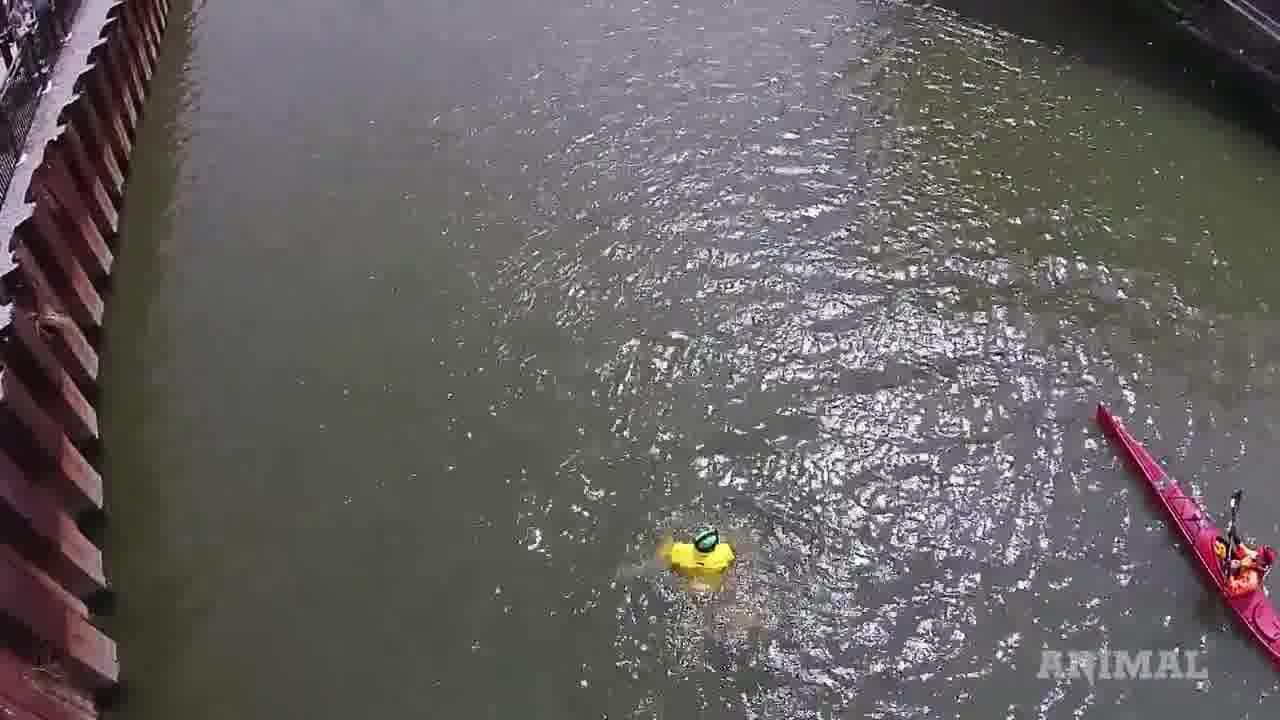human: (655, 515, 761, 598)
